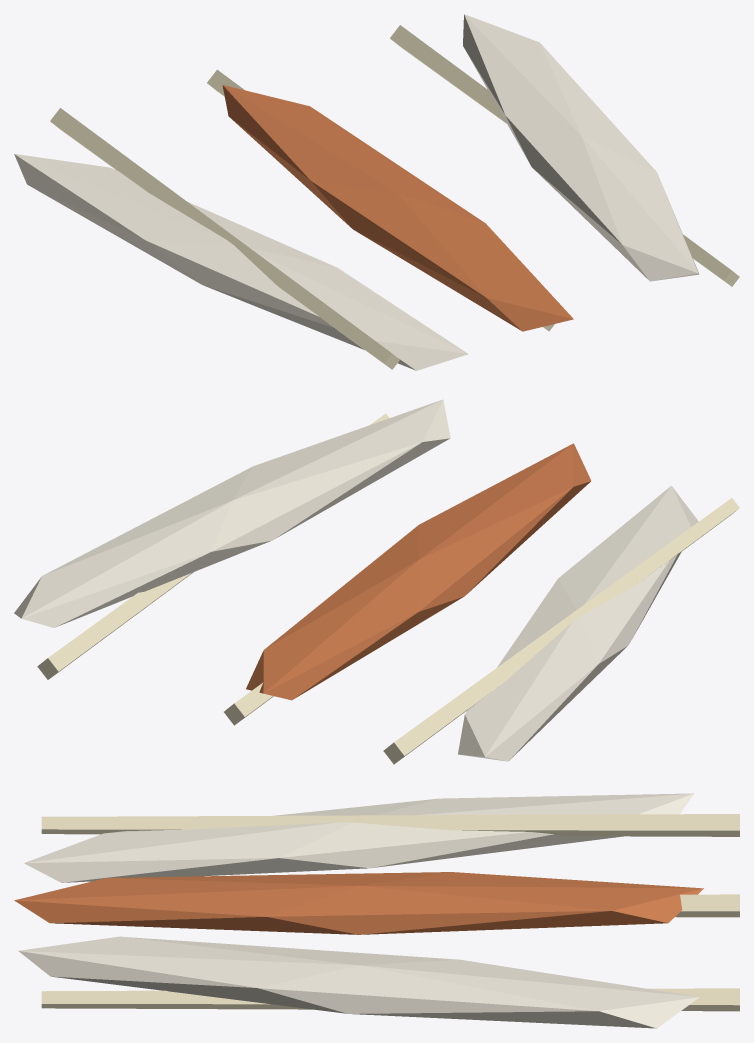
File: drop_feathers.glb
The picture shows the model from 3 angles, top to bottom: view 1: azimuth 30°, elevation 25°; view 2: azimuth 150°, elevation 25°; view 3: azimuth 270°, elevation 25°; orthographic projection. The views are drawn at different scales.
Parts seen in each view (by area): view 1: drop_feathers; view 2: drop_feathers; view 3: drop_feathers.
Boxes of the visible parts, x1,y1,x2,y2 form: drop_feathers: (14,14,739,370); drop_feathers: (14,399,739,764); drop_feathers: (14,793,739,1028).
Size of the model in its own units: 0.1857 by 0.022 by 0.2287.
